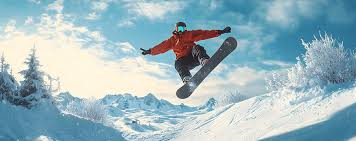snowboard: (174, 35, 239, 101)
